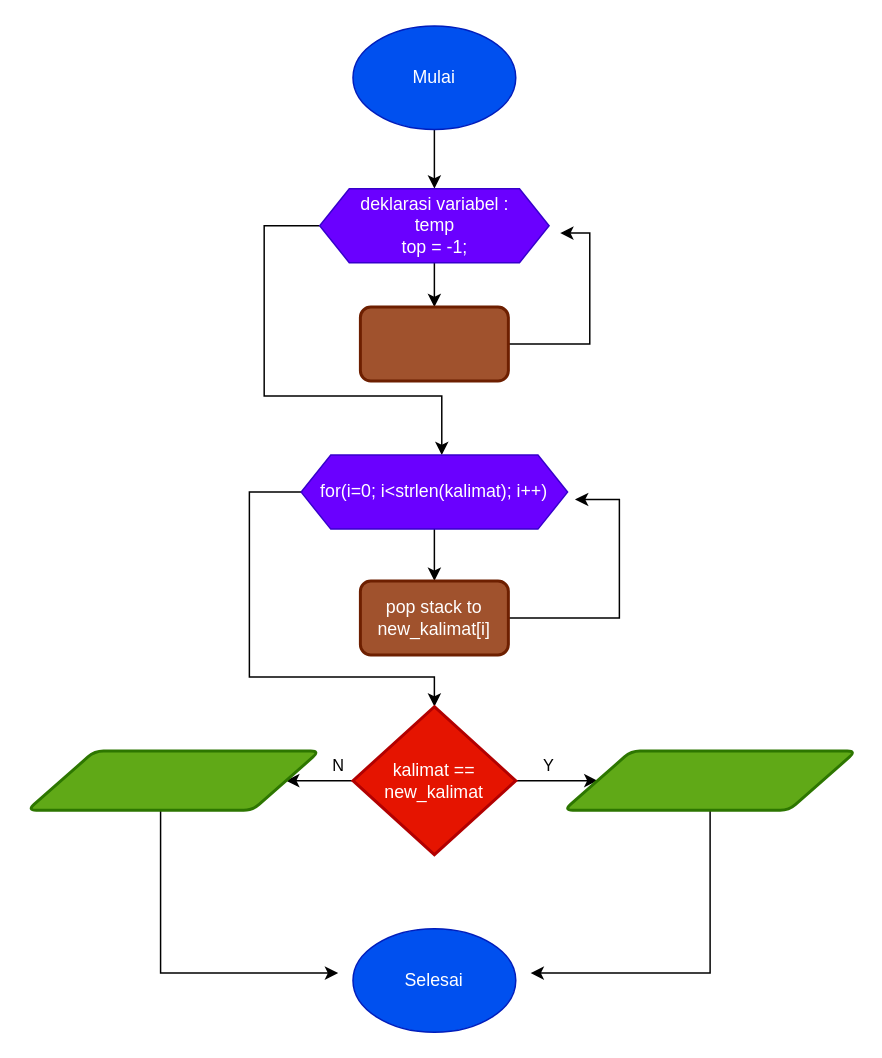
Some shapes in this 882 by 1058 pixel diagram are drawn without their labels. The shapes that lost their labels are listed below. From the top down, each one's centre as x and y in pixels, then its label:
At (x=433, y=343): "push kalimat[i] to stack".
At (x=172, y=780): "(kalimat) bukan palindrom".
At (x=709, y=780): "(kalimat) adalah palindrom".
